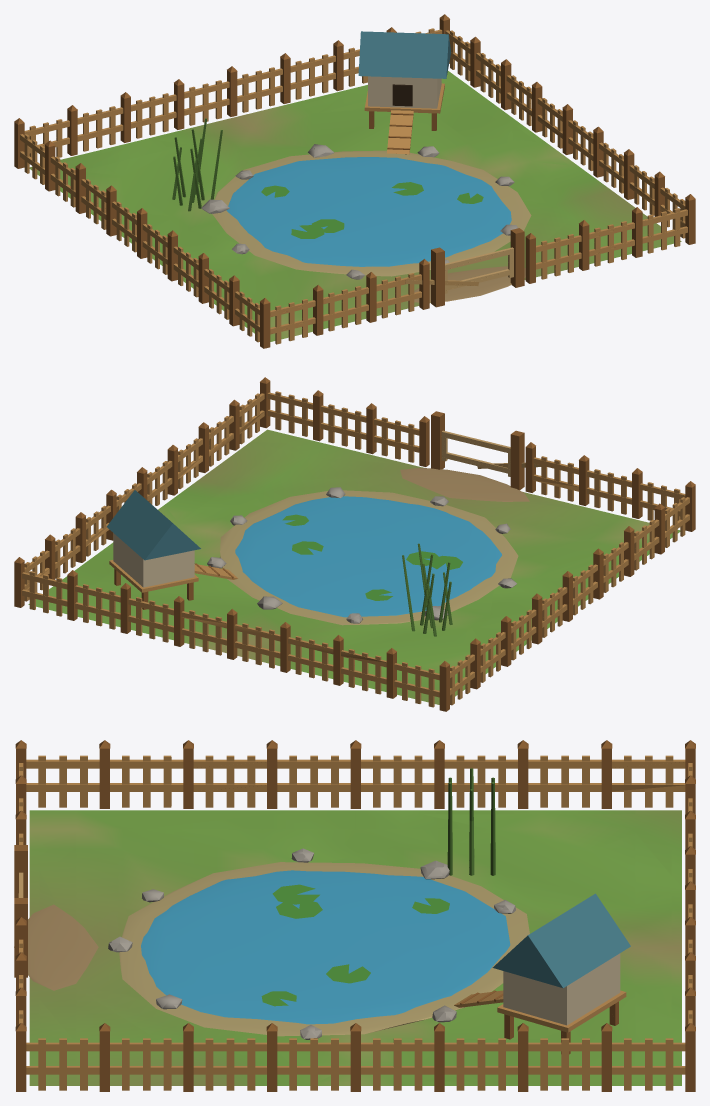
File: duck_pond.glb
The picture shows the model from 3 angles, top to bottom: view 1: azimuth 30°, elevation 25°; view 2: azimuth 150°, elevation 25°; view 3: azimuth 270°, elevation 25°; orthographic projection. The views are drawn at different scales.
Visible parts, largest first — view 1: home-duck_pond, home-duck_pond-far; view 2: home-duck_pond, home-duck_pond-far; view 3: home-duck_pond, home-duck_pond-far.
Boxes of the visible parts, box(x1,y1,x2,y2) form: home-duck_pond: box(18, 18, 688, 344); home-duck_pond-far: box(14, 14, 695, 348); home-duck_pond: box(14, 377, 691, 707); home-duck_pond-far: box(14, 377, 695, 711); home-duck_pond: box(14, 740, 695, 1090); home-duck_pond-far: box(14, 740, 695, 1091).
Bounding box in the file's own units: 7.93 × 1.59 × 7.95.
